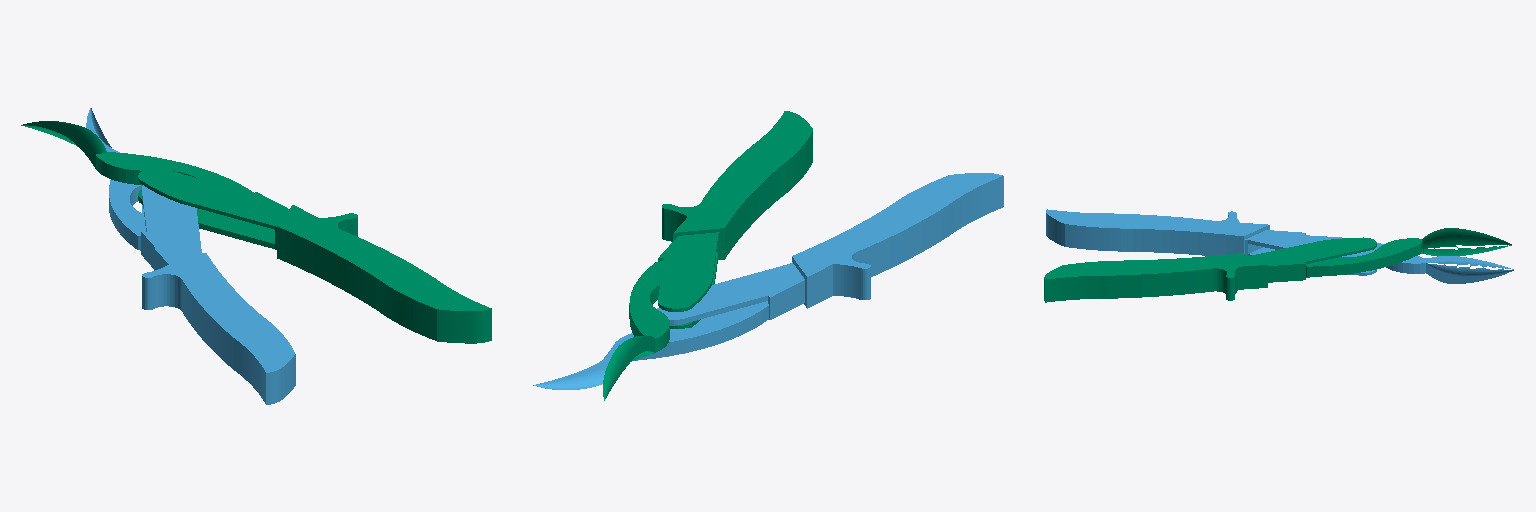
robot.urdf — partnet_a0dea17b4e7cb9d29addfcd581d71fe9:
<?xml version="1.0" ?>
<robot name="partnet_a0dea17b4e7cb9d29addfcd581d71fe9">
	<link name="base"/>
	<link name="link_0">
		<visual name="blade-15">
			<origin xyz="0.5808198569303977 -0.04516800000000032 -0.009017717189124363"/>
			<geometry>
				<mesh filename="textured_objs/original-6.obj"/>
			</geometry>
		</visual>
		<visual name="handle-16">
			<origin xyz="0.5808198569303977 -0.04516800000000032 -0.009017717189124363"/>
			<geometry>
				<mesh filename="textured_objs/original-4.obj"/>
			</geometry>
		</visual>
		<visual name="handle-16">
			<origin xyz="0.5808198569303977 -0.04516800000000032 -0.009017717189124363"/>
			<geometry>
				<mesh filename="textured_objs/original-3.obj"/>
			</geometry>
		</visual>
		<visual name="handle-16">
			<origin xyz="0.5808198569303977 -0.04516800000000032 -0.009017717189124363"/>
			<geometry>
				<mesh filename="textured_objs/new-1.obj"/>
			</geometry>
		</visual>
		<collision>
			<origin xyz="0.5808198569303977 -0.04516800000000032 -0.009017717189124363"/>
			<geometry>
				<mesh filename="textured_objs/original-6.obj"/>
			</geometry>
		</collision>
		<collision>
			<origin xyz="0.5808198569303977 -0.04516800000000032 -0.009017717189124363"/>
			<geometry>
				<mesh filename="textured_objs/original-4.obj"/>
			</geometry>
		</collision>
		<collision>
			<origin xyz="0.5808198569303977 -0.04516800000000032 -0.009017717189124363"/>
			<geometry>
				<mesh filename="textured_objs/original-3.obj"/>
			</geometry>
		</collision>
		<collision>
			<origin xyz="0.5808198569303977 -0.04516800000000032 -0.009017717189124363"/>
			<geometry>
				<mesh filename="textured_objs/new-1.obj"/>
			</geometry>
		</collision>
	</link>
	<joint name="joint_0" type="revolute">
		<origin xyz="-0.5808198569303977 0.04516800000000032 0.009017717189124363"/>
		<axis xyz="0 -1 0"/>
		<child link="link_0"/>
		<parent link="link_1"/>
		<limit lower="-0.3204424506661589" upper="0.9236282401553995"/>
	</joint>
	<link name="link_1">
		<visual name="blade-13">
			<origin xyz="0 0 0"/>
			<geometry>
				<mesh filename="textured_objs/original-8.obj"/>
			</geometry>
		</visual>
		<visual name="handle-14">
			<origin xyz="0 0 0"/>
			<geometry>
				<mesh filename="textured_objs/original-1.obj"/>
			</geometry>
		</visual>
		<visual name="handle-14">
			<origin xyz="0 0 0"/>
			<geometry>
				<mesh filename="textured_objs/original-2.obj"/>
			</geometry>
		</visual>
		<visual name="handle-14">
			<origin xyz="0 0 0"/>
			<geometry>
				<mesh filename="textured_objs/new-0.obj"/>
			</geometry>
		</visual>
		<collision>
			<origin xyz="0 0 0"/>
			<geometry>
				<mesh filename="textured_objs/original-8.obj"/>
			</geometry>
		</collision>
		<collision>
			<origin xyz="0 0 0"/>
			<geometry>
				<mesh filename="textured_objs/original-1.obj"/>
			</geometry>
		</collision>
		<collision>
			<origin xyz="0 0 0"/>
			<geometry>
				<mesh filename="textured_objs/original-2.obj"/>
			</geometry>
		</collision>
		<collision>
			<origin xyz="0 0 0"/>
			<geometry>
				<mesh filename="textured_objs/new-0.obj"/>
			</geometry>
		</collision>
	</link>
	<joint name="joint_1" type="fixed">
		<origin rpy="1.570796326794897 0 -1.570796326794897" xyz="0 0 0"/>
		<child link="link_1"/>
		<parent link="base"/>
	</joint>
</robot>

--- Facts derived from the render (not from the file) ---
Views: 3 orthographic renders of the robot side by side, from view 1: azimuth 30°, elevation 25°; view 2: azimuth 150°, elevation 25°; view 3: azimuth 270°, elevation 25°.
Model partnet_a0dea17b4e7cb9d29addfcd581d71fe9 with 3 links and 2 joints (1 revolute, 1 fixed), rooted at base, posed all joints at 0.
Visible links, largest first — view 1: link_1, link_0; view 2: link_0, link_1; view 3: link_1, link_0.
Link boxes in pixels (x1=…): link_1: x1=21, y1=121, x2=491, y2=343; link_0: x1=86, y1=108, x2=295, y2=404; link_0: x1=533, y1=173, x2=1003, y2=389; link_1: x1=603, y1=111, x2=812, y2=400; link_1: x1=1044, y1=228, x2=1511, y2=302; link_0: x1=1046, y1=209, x2=1513, y2=283.
Size in the robot's own frame: 0.7269 by 1.85 by 0.1729 metres.
Meshes: 8 distinct files referenced, 8 mesh visuals loaded (8 OBJ).